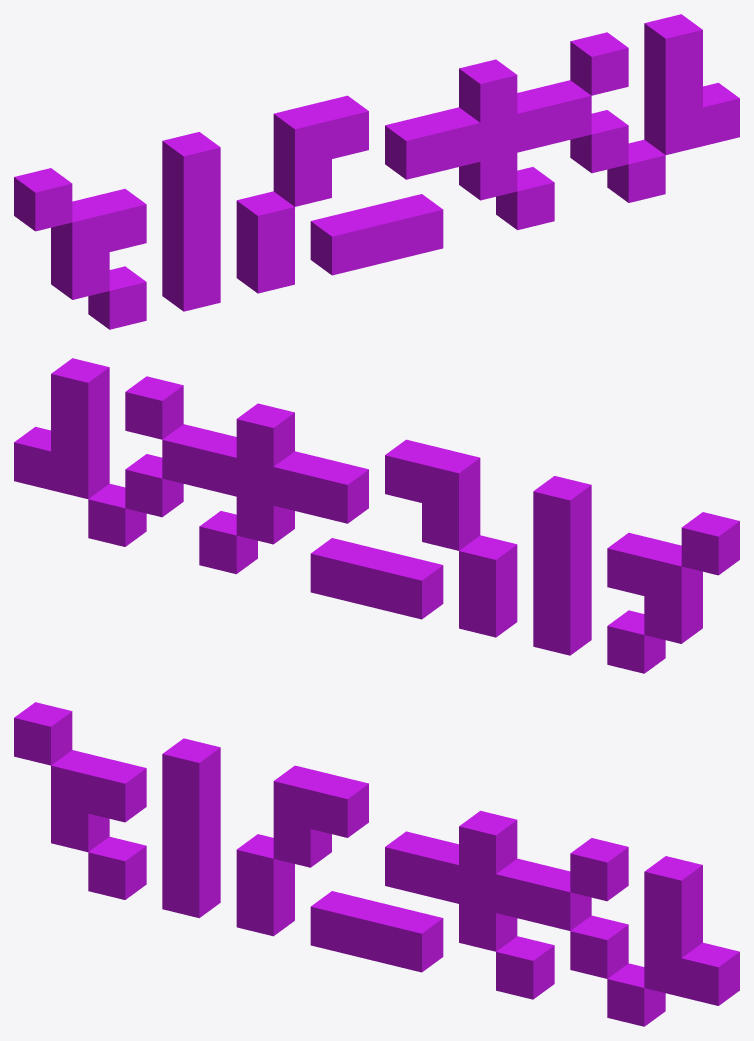
File: House-3.obj
The picture shows the model from 3 angles, top to bottom: view 1: azimuth 30°, elevation 25°; view 2: azimuth 150°, elevation 25°; view 3: azimuth 330°, elevation 25°; orthographic projection.
Bounding box in the file's own units: 1.9 × 0.4 × 0.1.
